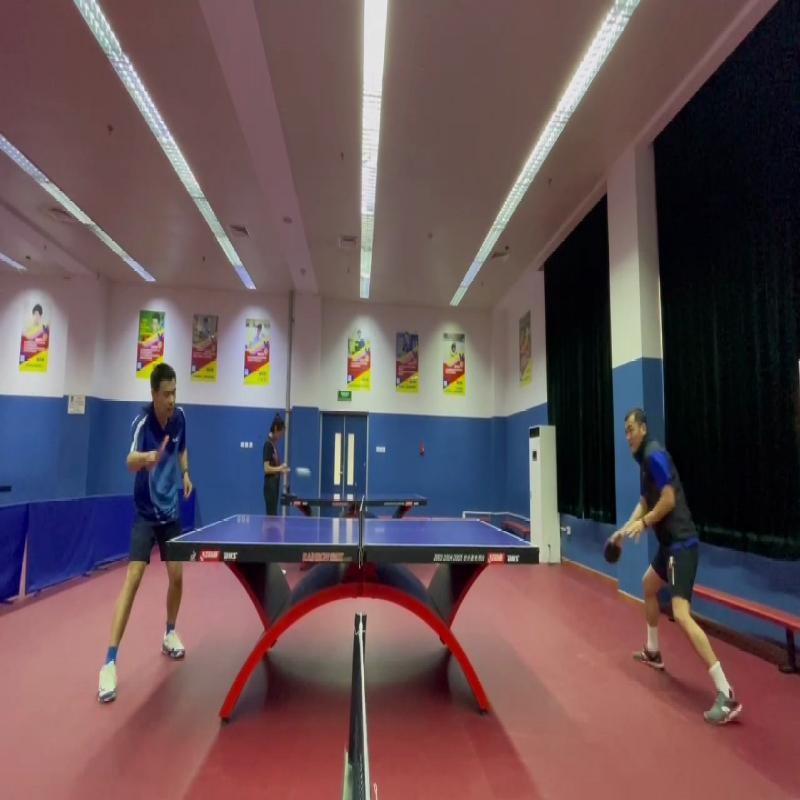bats: (149, 429, 178, 474)
